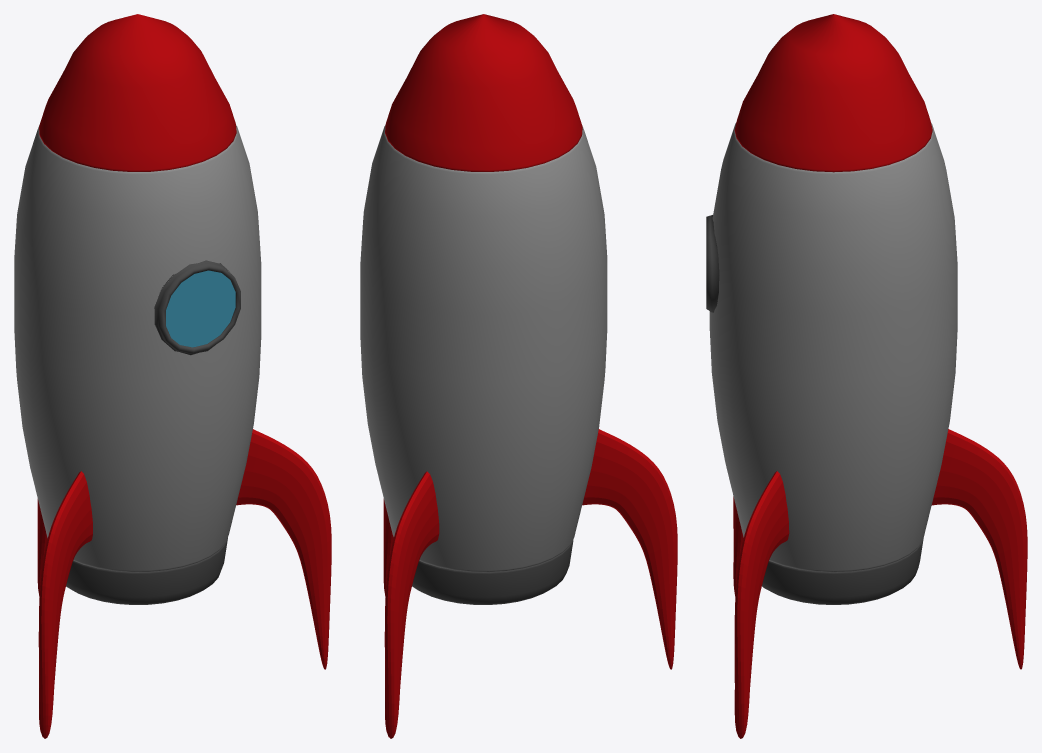
The model's file is Minimal Cartoon Rocketship.glb.
The picture shows the model from 3 angles, left to right: view 1: azimuth 30°, elevation 25°; view 2: azimuth 150°, elevation 25°; view 3: azimuth 270°, elevation 25°; orthographic projection.
Parts seen in each view (by area): view 1: Cylinder; view 2: Cylinder; view 3: Cylinder.
Boxes of the visible parts, x1,y1,x2,y2 form: Cylinder: (14, 14, 331, 738); Cylinder: (360, 14, 677, 738); Cylinder: (706, 14, 1027, 738).
Size of the model in its own units: 4.48 by 9.62 by 4.27.
